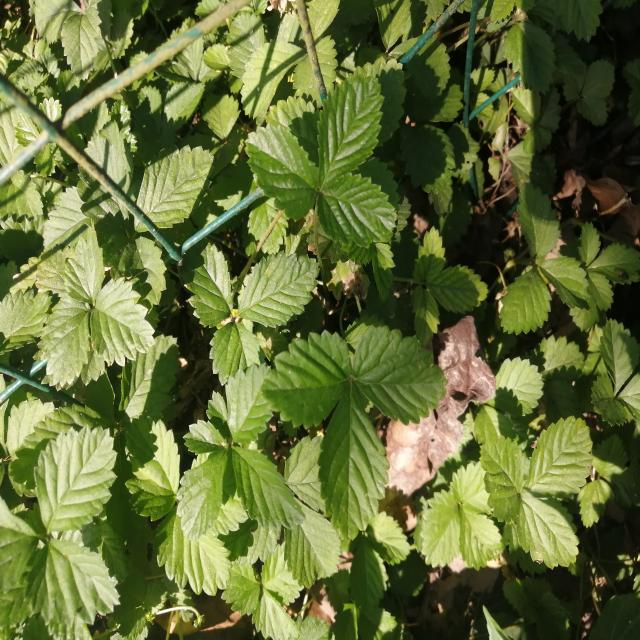Mock_strawberry: (186, 247, 432, 557)
